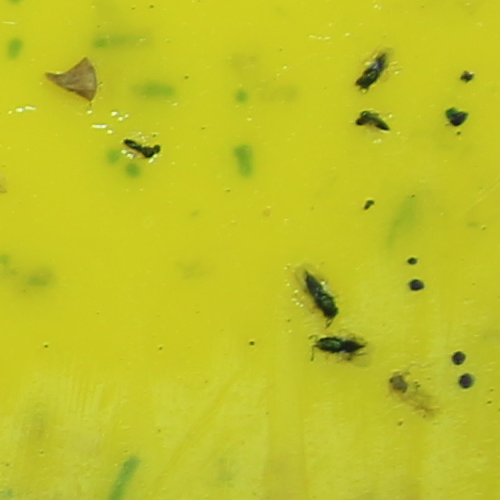Psyllaephagus: (306, 265, 336, 317), (355, 50, 390, 90), (311, 334, 366, 353)
